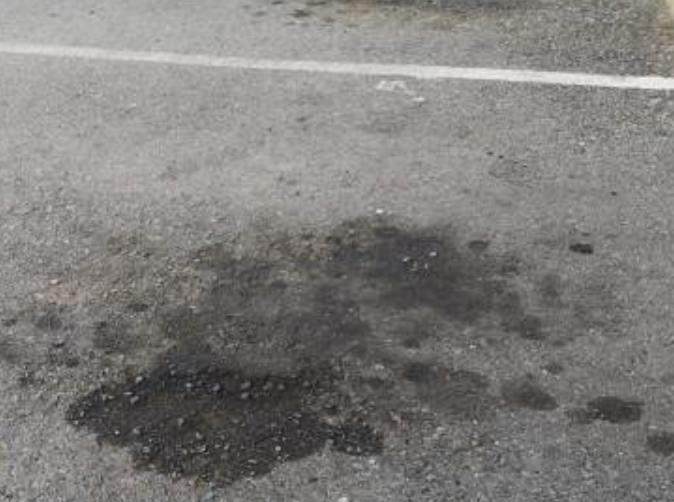oil: (32, 106, 323, 245)
